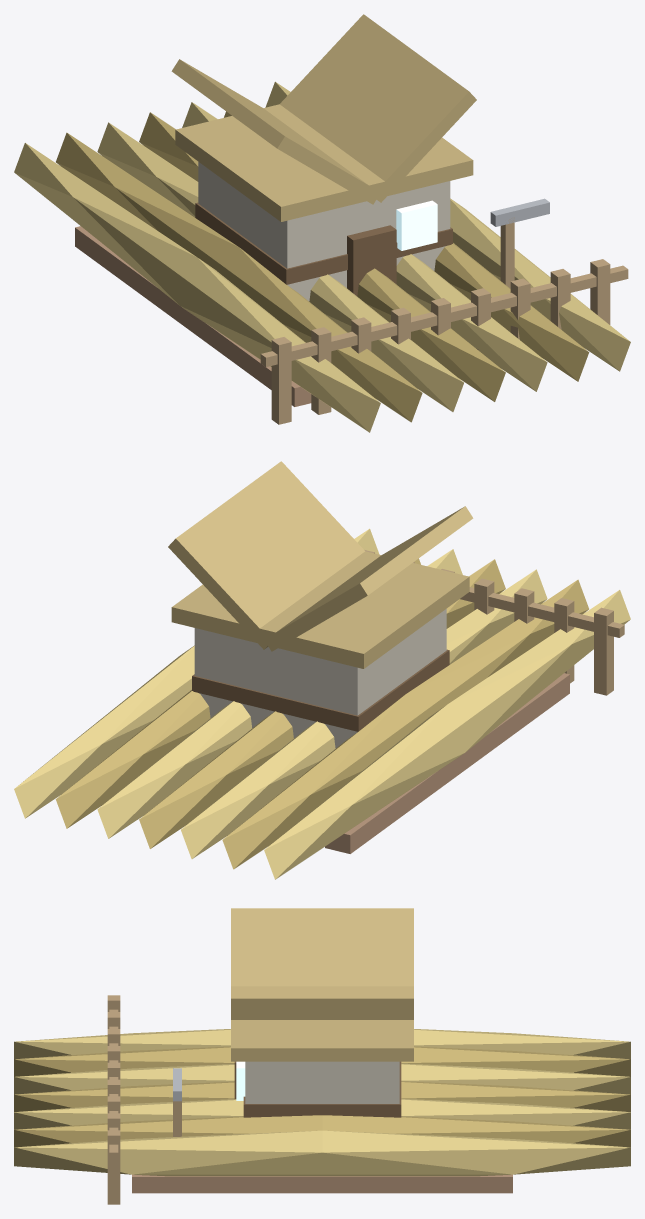
Rendered from farm.glb.
3 views of the same model, one above another, from view 1: azimuth 30°, elevation 25°; view 2: azimuth 150°, elevation 25°; view 3: azimuth 270°, elevation 25° (orthographic). The views are drawn at different scales.
Parts seen in each view (by area): view 1: FarmHutRoofSlabR, Wheat0, Wheat1, FarmHutRoof, FarmHutWall, Wheat2, Wheat3, Wheat6, Wheat4, Wheat5, FarmHutRoofSlabL, Furrow0 (+14 smaller); view 2: FarmHutRoofSlabR, Wheat0, Wheat1, FarmHutRoof, FarmHutWall, Wheat2, Wheat6, Wheat3, Wheat4, Wheat5, Furrow0, FarmHutRoofSlabL (+6 smaller); view 3: Wheat6, FarmHutRoofSlabL, Wheat5, Wheat4, Wheat2, Wheat3, Wheat1, Wheat0, FarmHutRoof, Furrow6, FarmHutWall, FarmHutRoofSlabR (+2 smaller).
Part boxes in pixels (left/top/right/bottom): FarmHutRoofSlabR: left=280, top=14, right=476, bottom=202; Wheat0: left=14, top=143, right=380, bottom=432; Wheat1: left=56, top=132, right=422, bottom=422; FarmHutRoof: left=175, top=104, right=473, bottom=221; FarmHutWall: left=198, top=162, right=450, bottom=301; Wheat2: left=97, top=122, right=463, bottom=411; Wheat3: left=139, top=112, right=505, bottom=401; Wheat6: left=265, top=81, right=630, bottom=371; Wheat4: left=182, top=102, right=547, bottom=391; Wheat5: left=224, top=111, right=589, bottom=381; FarmHutRoofSlabL: left=171, top=59, right=377, bottom=204; Furrow0: left=75, top=226, right=311, bottom=406; FarmHutRoofSlabR: left=168, top=461, right=364, bottom=649; Wheat0: left=264, top=590, right=630, bottom=879; Wheat1: left=222, top=579, right=588, bottom=869; FarmHutRoof: left=171, top=551, right=469, bottom=668; FarmHutWall: left=194, top=609, right=446, bottom=748; Wheat2: left=181, top=569, right=547, bottom=858; Wheat6: left=14, top=528, right=379, bottom=818; Wheat3: left=139, top=559, right=505, bottom=848; Wheat4: left=97, top=549, right=462, bottom=838; Wheat5: left=55, top=558, right=420, bottom=828; Furrow0: left=325, top=673, right=569, bottom=853; FarmHutRoofSlabL: left=268, top=506, right=473, bottom=651; Wheat6: left=14, top=1130, right=630, bottom=1176; FarmHutRoofSlabL: left=231, top=908, right=413, bottom=986; Wheat5: left=14, top=1115, right=630, bottom=1147; Wheat4: left=14, top=1098, right=630, bottom=1129; Wheat2: left=14, top=1063, right=630, bottom=1094; Wheat3: left=14, top=1081, right=630, bottom=1111; Wheat1: left=14, top=1046, right=630, bottom=1076; Wheat0: left=14, top=1029, right=630, bottom=1059; FarmHutRoof: left=231, top=1020, right=413, bottom=1061; Furrow6: left=132, top=1174, right=512, bottom=1193; FarmHutWall: left=245, top=1061, right=399, bottom=1103; FarmHutRoofSlabR: left=231, top=986, right=413, bottom=1019.
Size of the model in its own units: 2 by 1.25 by 3.4.
